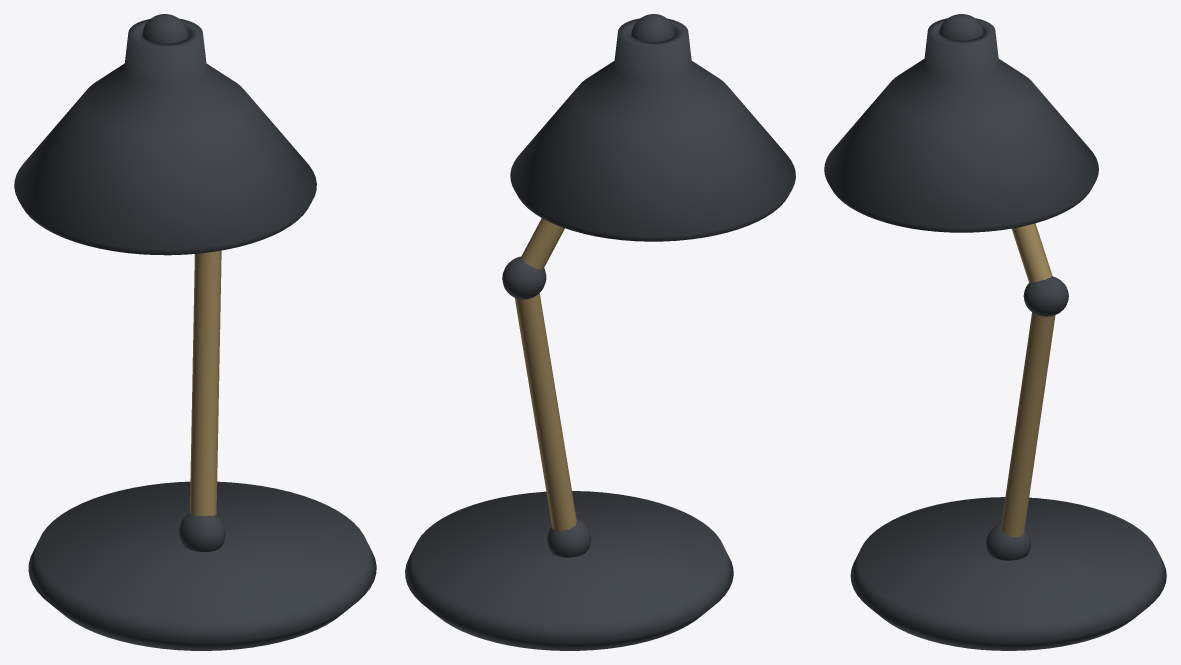
File: lamp-3.glb
The picture shows the model from 3 angles, left to right: view 1: azimuth 30°, elevation 25°; view 2: azimuth 150°, elevation 25°; view 3: azimuth 270°, elevation 25°; orthographic projection. The views are drawn at different scales.
Visible parts, largest first — view 1: Flared graphite shade, Weighted articulated base, Lower adjustable arm, Adjustment joint, Adjustment joint.002; view 2: Flared graphite shade, Weighted articulated base, Lower adjustable arm, Adjustment joint.001, Upper adjustable arm, Adjustment joint, Adjustment joint.002; view 3: Flared graphite shade, Weighted articulated base, Lower adjustable arm, Upper adjustable arm, Adjustment joint.001, Adjustment joint, Adjustment joint.002.
Part boxes in pixels (left/top/right/bottom): Flared graphite shade: left=14, top=18, right=316, bottom=255; Weighted articulated base: left=28, top=481, right=376, bottom=650; Lower adjustable arm: left=190, top=250, right=221, bottom=516; Adjustment joint: left=179, top=513, right=225, bottom=551; Adjustment joint.002: left=142, top=14, right=188, bottom=43; Flared graphite shade: left=510, top=18, right=795, bottom=241; Weighted articulated base: left=405, top=491, right=733, bottom=650; Lower adjustable arm: left=515, top=293, right=576, bottom=531; Adjustment joint.001: left=502, top=256, right=546, bottom=299; Upper adjustable arm: left=521, top=218, right=564, bottom=269; Adjustment joint: left=547, top=519, right=591, bottom=557; Adjustment joint.002: left=631, top=14, right=674, bottom=41; Flared graphite shade: left=824, top=18, right=1098, bottom=232; Weighted articulated base: left=850, top=497, right=1166, bottom=650; Lower adjustable arm: left=1001, top=312, right=1055, bottom=537; Upper adjustable arm: left=1012, top=223, right=1052, bottom=282; Adjustment joint.001: left=1023, top=276, right=1068, bottom=316; Adjustment joint: left=986, top=524, right=1031, bottom=560; Adjustment joint.002: left=939, top=14, right=983, bottom=40.
Bounding box in the file's own units: 0.192 × 0.321 × 0.182.
